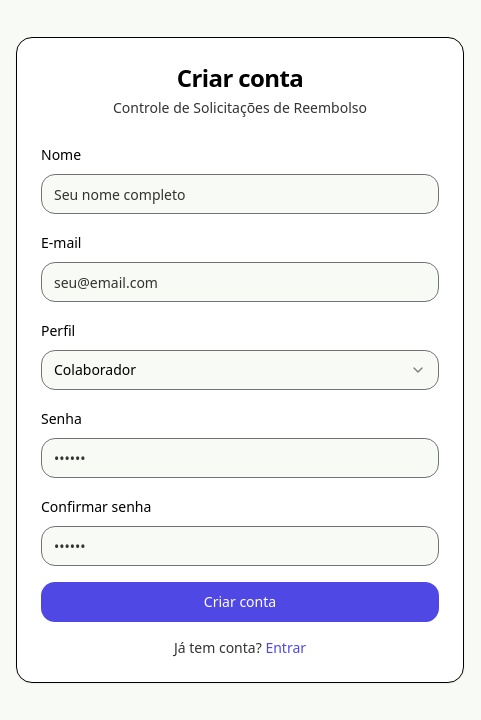
it: RegisterPage › shows validation error when name is empty
Click the button "Criar conta" at (240, 602), box [41,582,439,622]
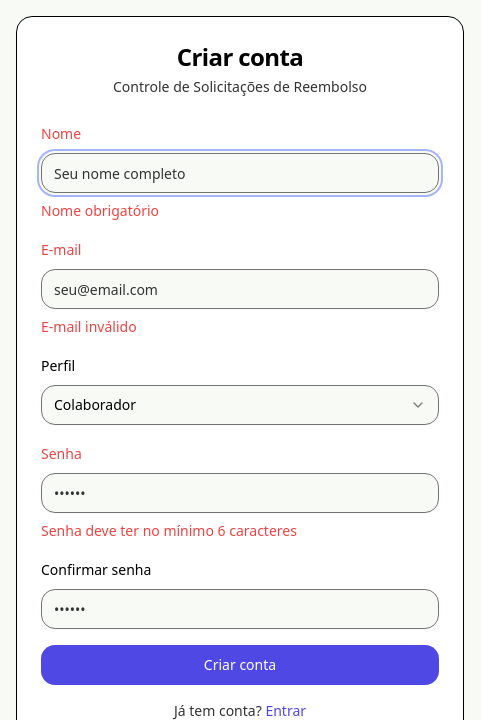
Expected: the text "Nome obrigatório" is shown, [41,201,159,220]
